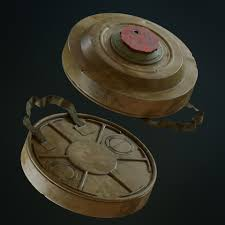car: (55, 0, 214, 145)
